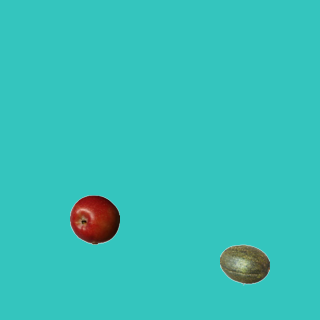Apple Braeburn: (69, 194, 119, 244)
Melon Piel de Sapo: (219, 239, 269, 289)
